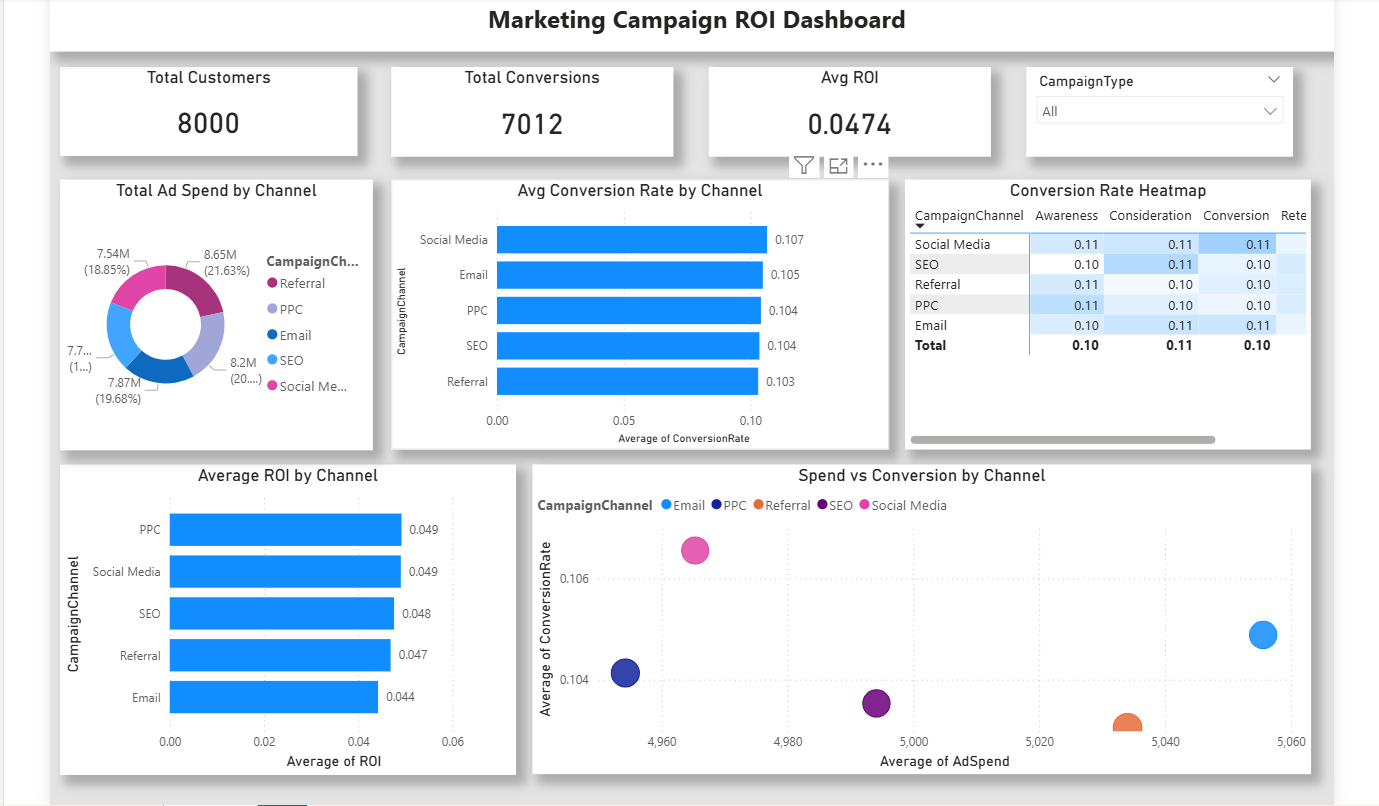

The dashboard page shown, as its layout file describes it:
{"tool":"powerbi","page":{"name":"Page 1","canvas":[1270,800],"ordinal":0},"visuals":[{"type":"card","title":"Total Customers","fields":{"Values":["CountNonNull(cleaned_marketing_data.CustomerID)"]},"box":[9.9,69.3,294.4,87.8],"z":0},{"type":"textbox","box":[0,14.9,1280.3,39.2],"z":1000},{"type":"textbox","box":[0,0,1280.3,44.5],"z":2000},{"type":"card","title":"Total Conversions","fields":{"Values":["Sum(cleaned_marketing_data.Conversion)"]},"box":[338.3,68.7,279,88.9],"z":3000},{"type":"card","title":"Avg ROI","fields":{"Values":["Avg(channel_summary.AvgROI)"]},"box":[652.3,68.7,279,88.9],"z":4000},{"type":"clusteredBarChart","title":"Avg Conversion Rate by Channel","fields":{"Category":["cleaned_marketing_data.CampaignChannel"],"Y":["Avg(cleaned_marketing_data.ConversionRate)"]},"box":[337.7,180.6,492.3,267.2],"z":5000},{"type":"clusteredBarChart","title":"Average ROI by Channel","fields":{"Category":["cleaned_marketing_data.CampaignChannel"],"Y":["Avg(cleaned_marketing_data.ROI)"]},"box":[10,462.1,450.8,306.8],"z":6000},{"type":"donutChart","title":"Total Ad Spend by Channel","fields":{"Category":["cleaned_marketing_data.CampaignChannel"],"Y":["Sum(cleaned_marketing_data.AdSpend)"]},"box":[10,180.3,309.3,268],"z":7000},{"type":"pivotTable","title":"Conversion Rate Heatmap","fields":{"Rows":["cleaned_marketing_data.CampaignChannel"],"Columns":["cleaned_marketing_data.CampaignType"],"Values":["Avg(cleaned_marketing_data.ConversionRate)"]},"box":[846,180.6,402,267.2],"z":8000},{"type":"slicer","fields":{"Values":["cleaned_marketing_data.CampaignType"]},"box":[966.3,68.7,264.1,88.9],"z":9000},{"type":"scatterChart","title":"Spend vs Conversion by Channel","fields":{"X":["Avg(cleaned_marketing_data.AdSpend)"],"Y":["Avg(cleaned_marketing_data.ConversionRate)"],"Series":["cleaned_marketing_data.CampaignChannel"],"Size":["CountNonNull(cleaned_marketing_data.CustomerID)"]},"box":[477.4,462.6,770.6,306.7],"z":10000}]}

Visuals, with their boxes in screenshot pixels (x1, y1, x2, y2):
"Total Customers" card: 74:72:366:159
textbox: 65:18:1334:57
textbox: 65:4:1334:48
"Total Conversions" card: 400:72:677:160
"Avg ROI" card: 711:72:988:160
"Avg Conversion Rate by Channel" clusteredBarChart: 400:183:888:448
"Average ROI by Channel" clusteredBarChart: 75:462:522:766
"Total Ad Spend by Channel" donutChart: 75:182:381:448
"Conversion Rate Heatmap" pivotTable: 904:183:1302:448
slicer - cleaned_marketing_data.CampaignType: 1023:72:1285:160
"Spend vs Conversion by Channel" scatterChart: 538:462:1302:766
